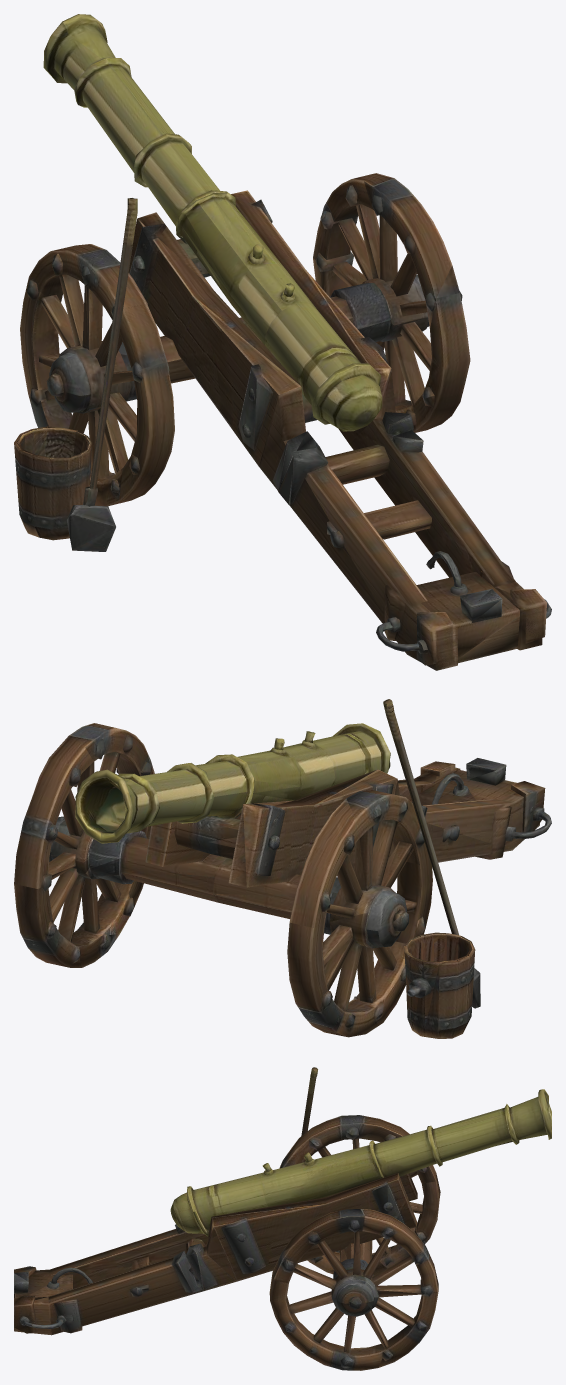
Rendered from field-culverin.glb.
3 renders of one model, top to bottom at view 1: azimuth 30°, elevation 25°; view 2: azimuth 150°, elevation 25°; view 3: azimuth 270°, elevation 25°, orthographic. The views are drawn at different scales.
Parts seen in each view (by area): view 1: mesh_node; view 2: mesh_node; view 3: mesh_node.
Part boxes in pixels (x1,y1,x2,y2): mesh_node: (14,14,551,670); mesh_node: (14,699,551,1038); mesh_node: (14,1067,551,1370).
Size of the model in its own units: 1.5 by 1.16 by 2.5.
Materials: 1 (1 with a texture image).
